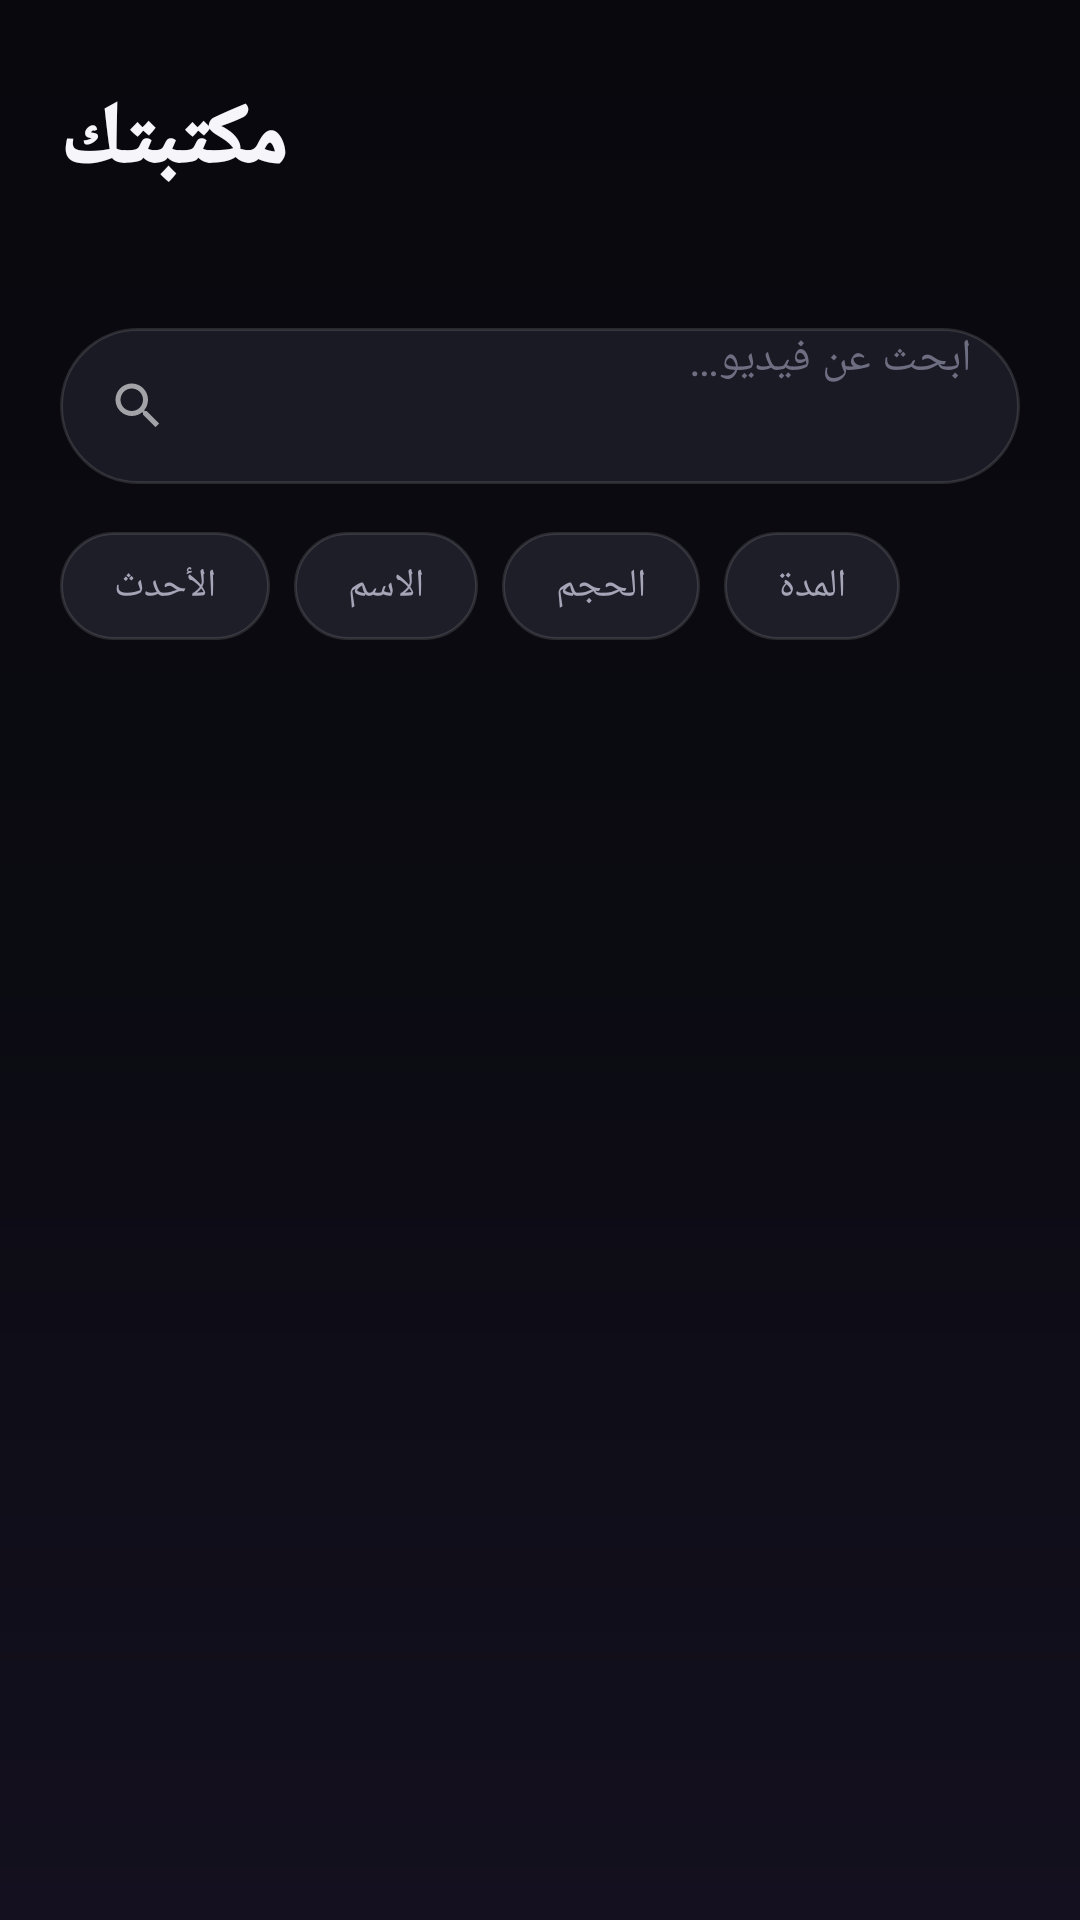

Icons on this 1080x1920 Android screen, each with its box as (x1, y1, x2, y2):
search: (115, 383, 159, 427)
